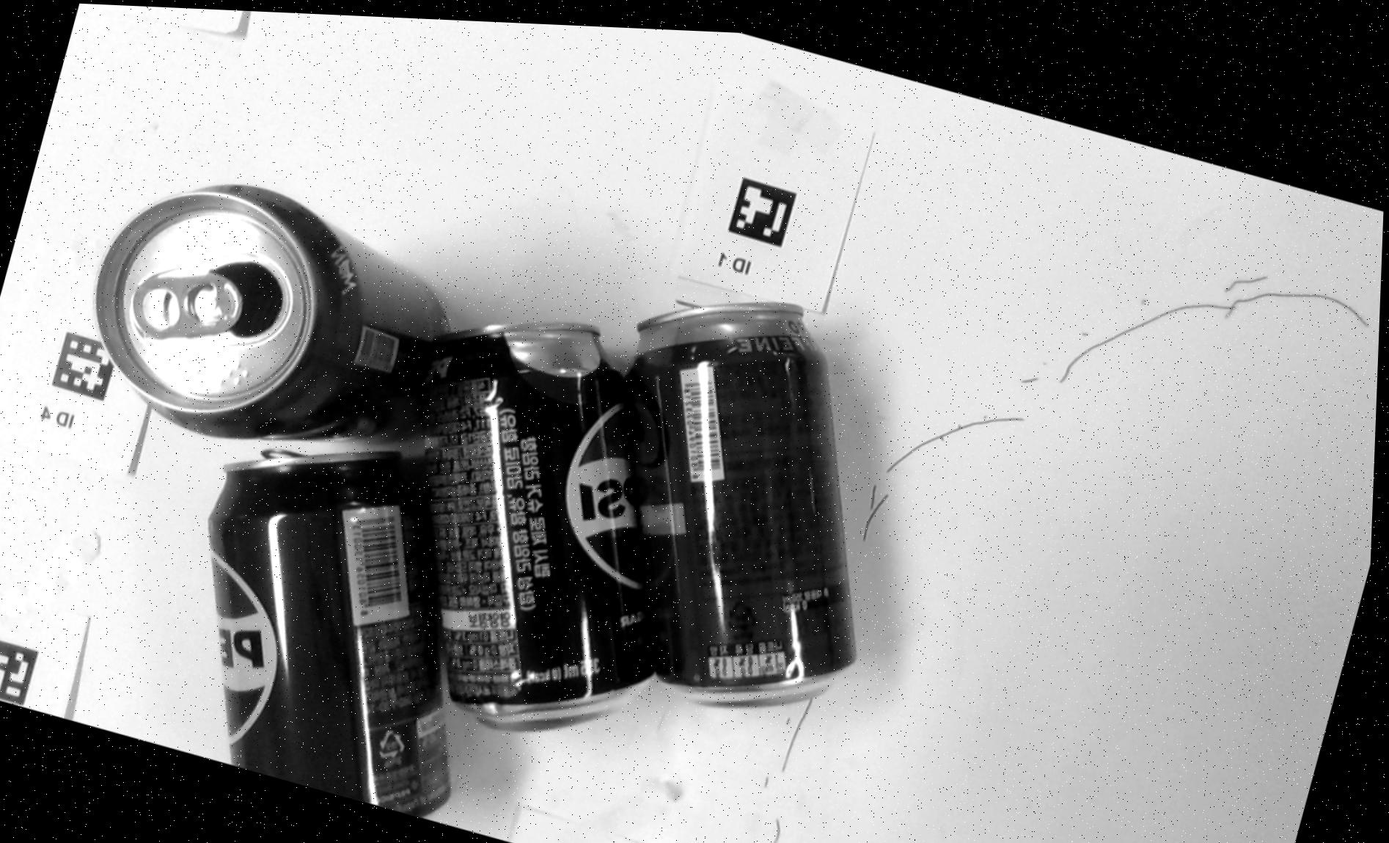can_coke_decaf: (626, 302, 855, 703)
can_coke_zero: (96, 185, 448, 439)
can_pepsi: (210, 450, 450, 817)
can_pepsi_zero: (424, 323, 653, 729)
